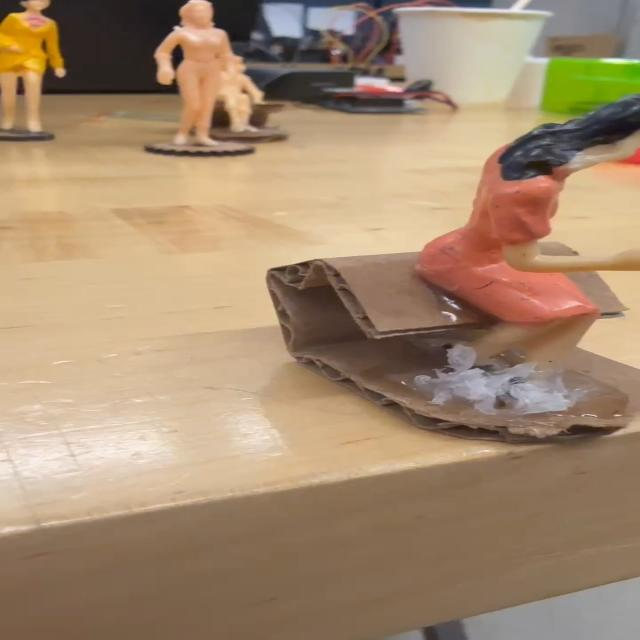Authorized: (245, 104, 640, 500)
